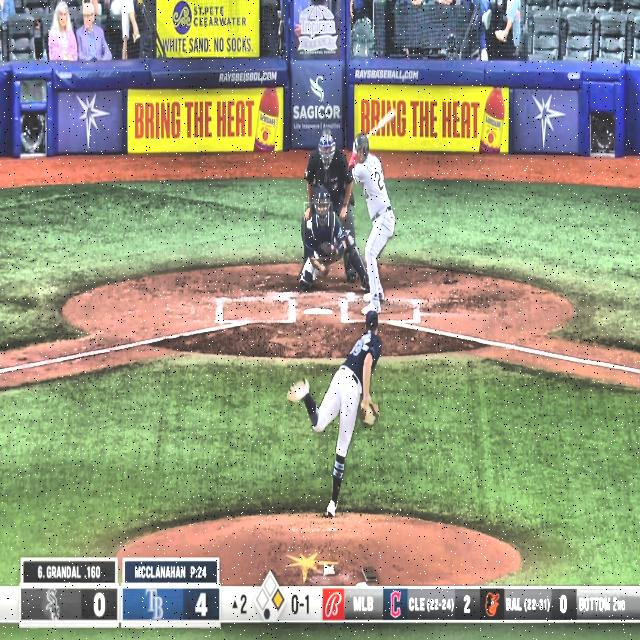baseball: (306, 220, 312, 230)
